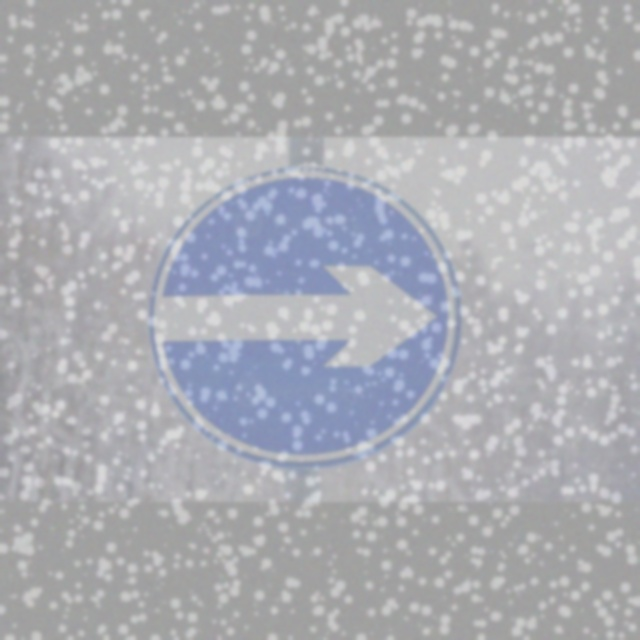Compulsory_Turn_Right: (150, 165, 463, 465)
